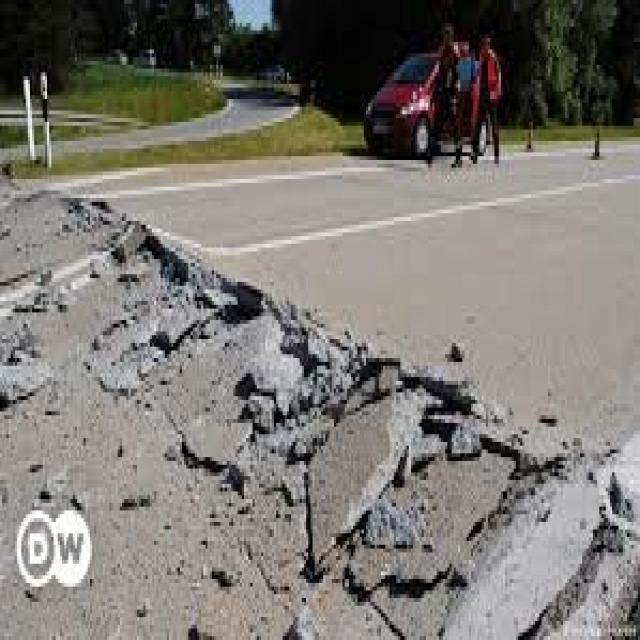Pothole: (62, 183, 537, 606)
